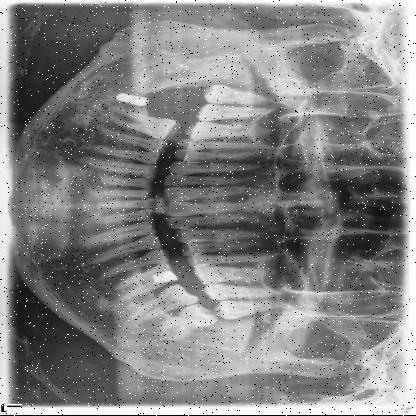ITI: (110, 92, 156, 112)
